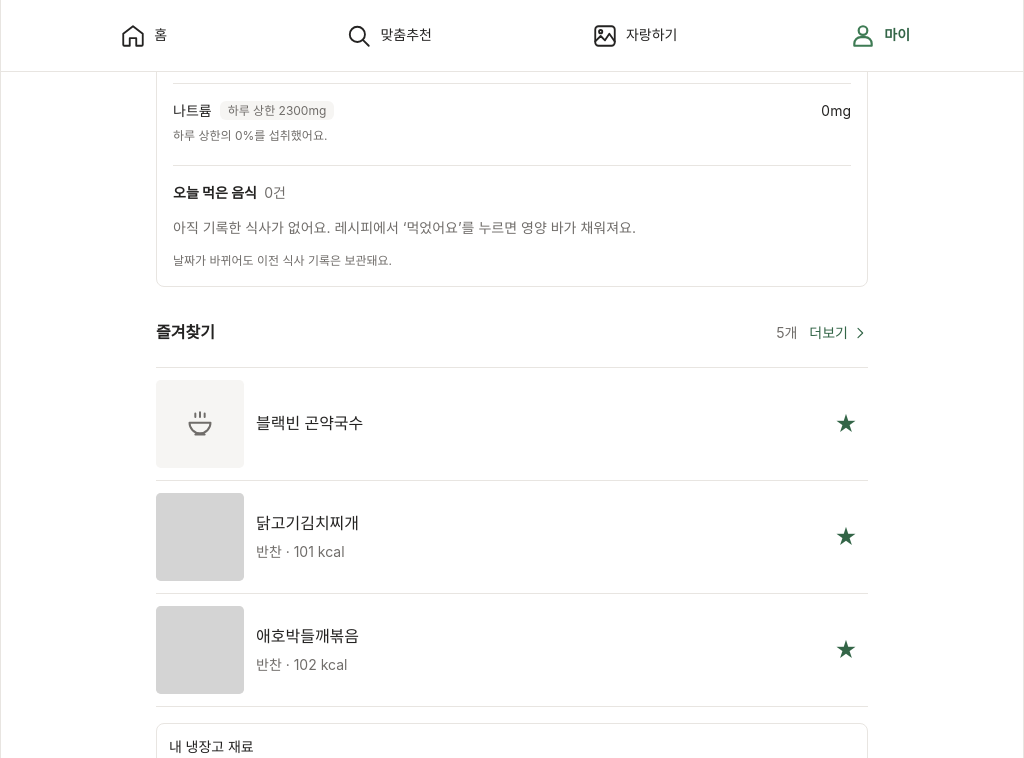
Test: 즐겨찾기 미리보기와 전체 목록 › 마이에서 해제하면 다음 저장 메뉴가 미리보기를 채우고 되돌리면 복원된다
This screenshot has width=1024, height=758.
(page scrolled)
Step 1. Click the button named "즐겨찾기 해제: 블랙빈 곤약국수" → (846,424), box [824,402,868,446]
(page scrolled)
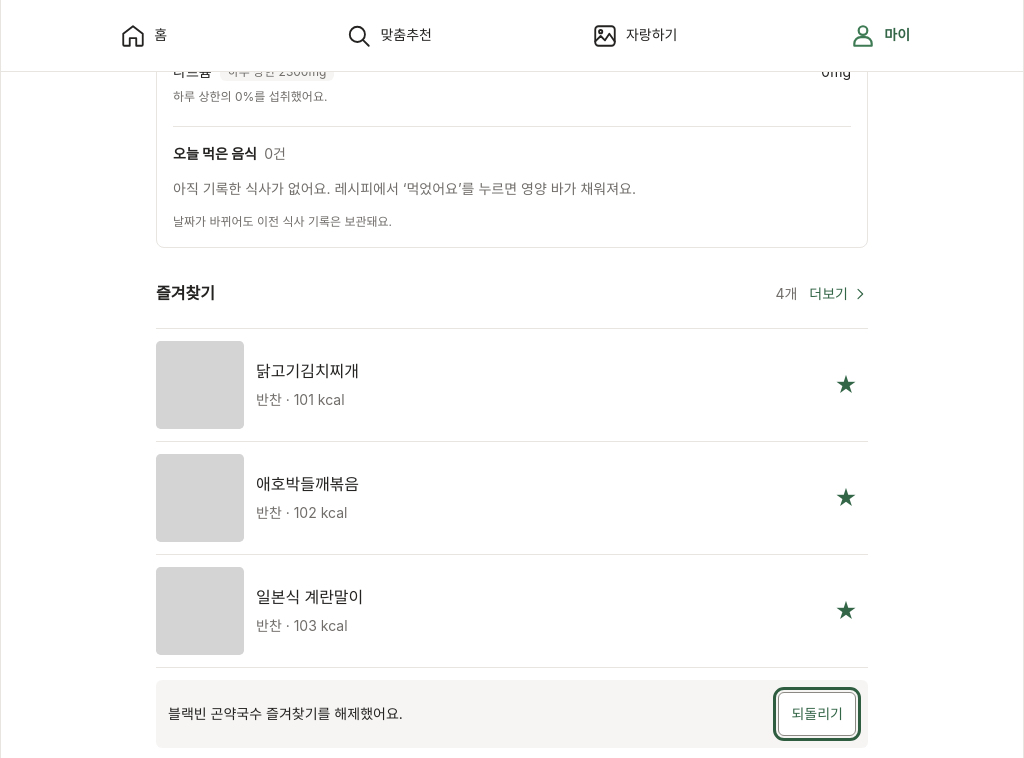
Expected: the text "일본식 계란말이" is shown, [256,585,363,611]
Expected: the text "4개" is shown, [775,283,797,305]
Step 2. Click the button "되돌리기" → (817,714), box [778,692,856,736]
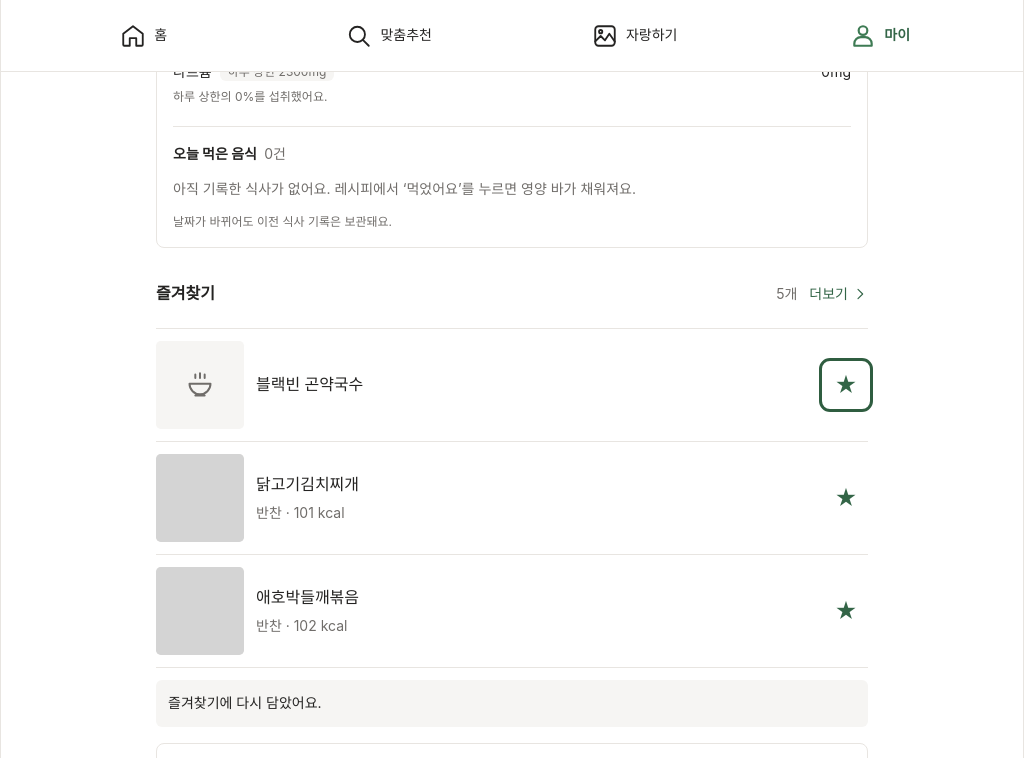
Expected: the text "5개" is shown, [776,283,797,305]
